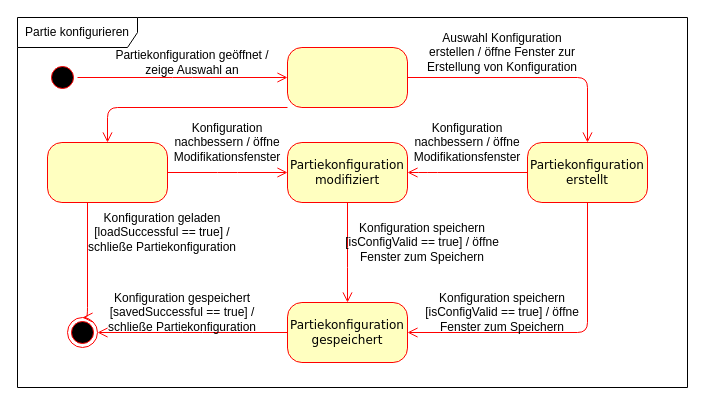
This 705x405 diagram has some shape labels left out. The shapes that lost their labels are listed below. From the top down, each one's centre as x and y in pixels, then its label:
At point 347,77: "Auswahl Laden / Erstellen".
At point 107,172: "Partiekonfiguration geladen".
